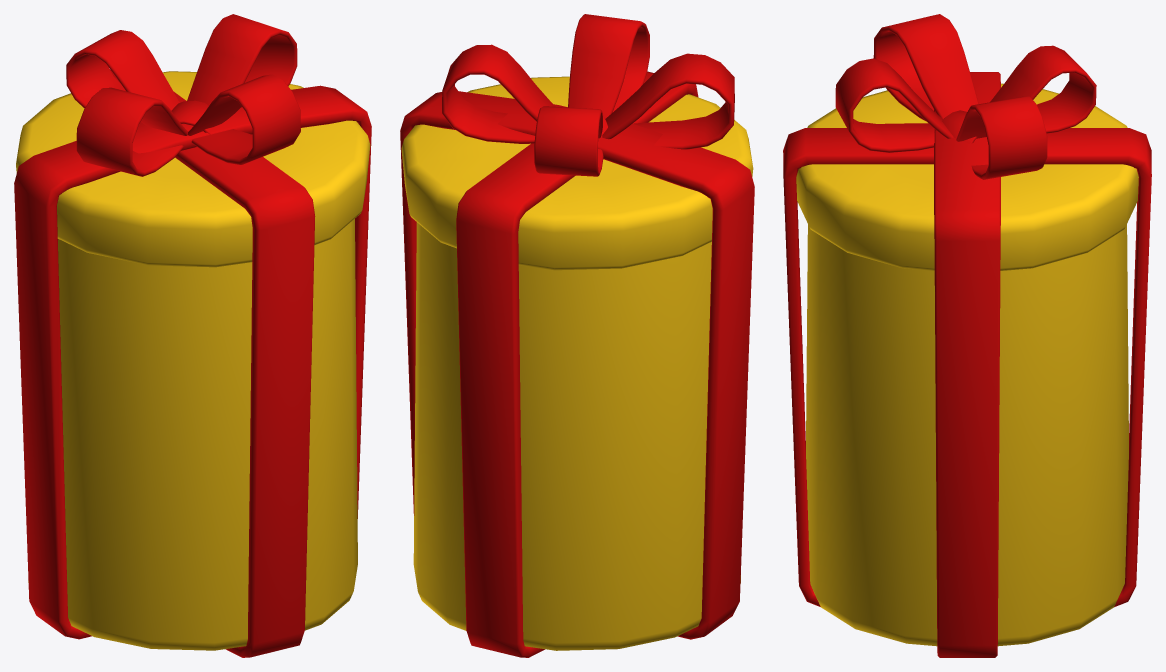
Rendered from giftbox02.fbx.
3 renders of one model, left to right at view 1: azimuth 30°, elevation 25°; view 2: azimuth 150°, elevation 25°; view 3: azimuth 270°, elevation 25°, orthographic. The views are drawn at different scales.
Visible parts, largest first — view 1: GIFTBOX_005; view 2: GIFTBOX_005; view 3: GIFTBOX_005.
Part boxes in pixels (x1,y1,x2,y2): GIFTBOX_005: (14, 14, 371, 657); GIFTBOX_005: (400, 14, 754, 657); GIFTBOX_005: (783, 14, 1151, 657).
Size of the model in its own units: 37.97 by 61.89 by 37.97.
